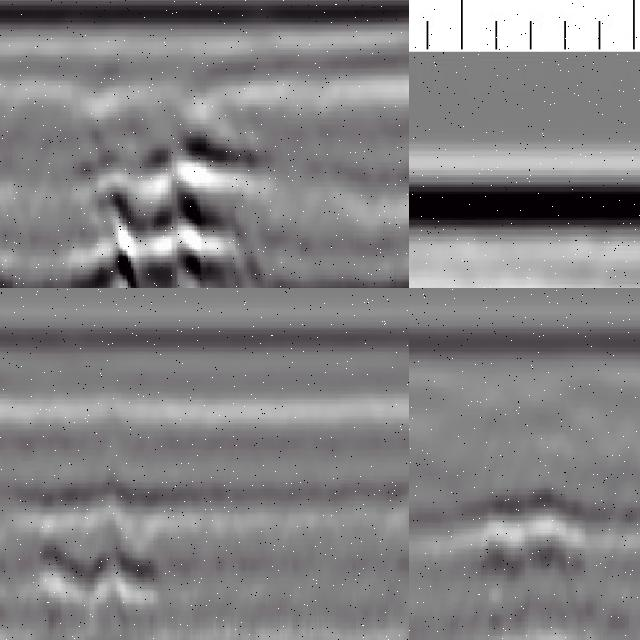loose: (71, 113, 269, 289), (465, 487, 600, 640), (23, 478, 176, 605)
